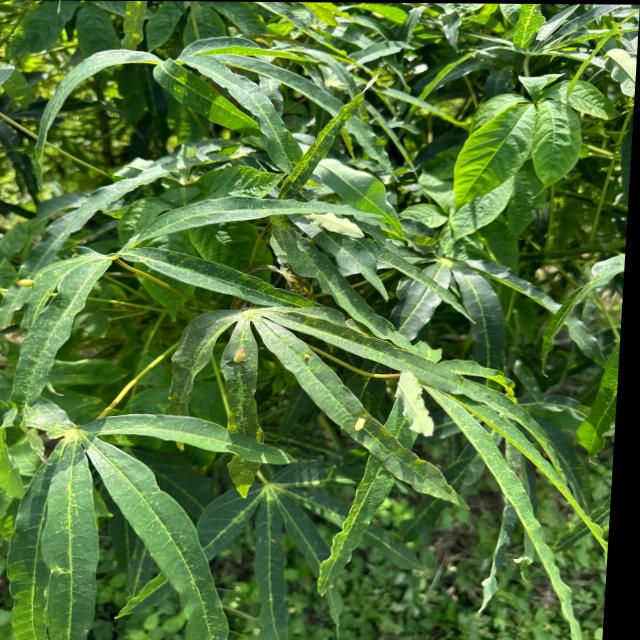Maleza: (445, 70, 605, 205)
Mosca: (347, 412, 373, 453), (11, 270, 42, 290), (294, 345, 317, 368), (231, 343, 244, 370)
